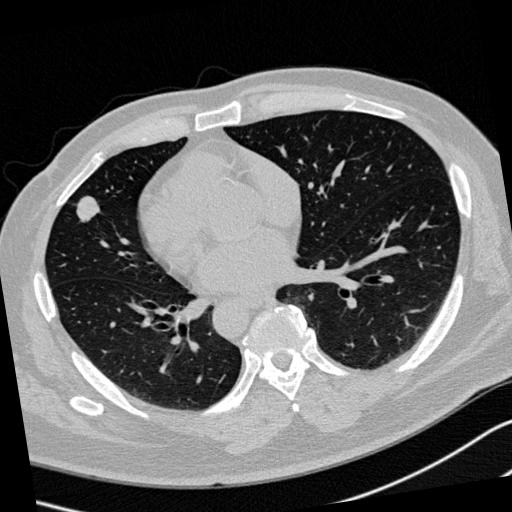nodule: (73, 192, 104, 223)
